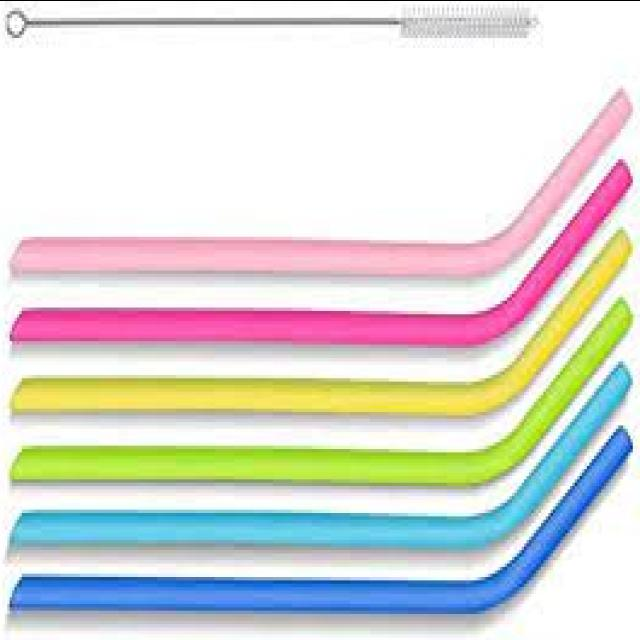straw: (13, 302, 632, 485), (13, 162, 631, 345), (13, 232, 631, 413), (14, 93, 631, 274), (13, 431, 631, 610), (13, 375, 630, 546)
